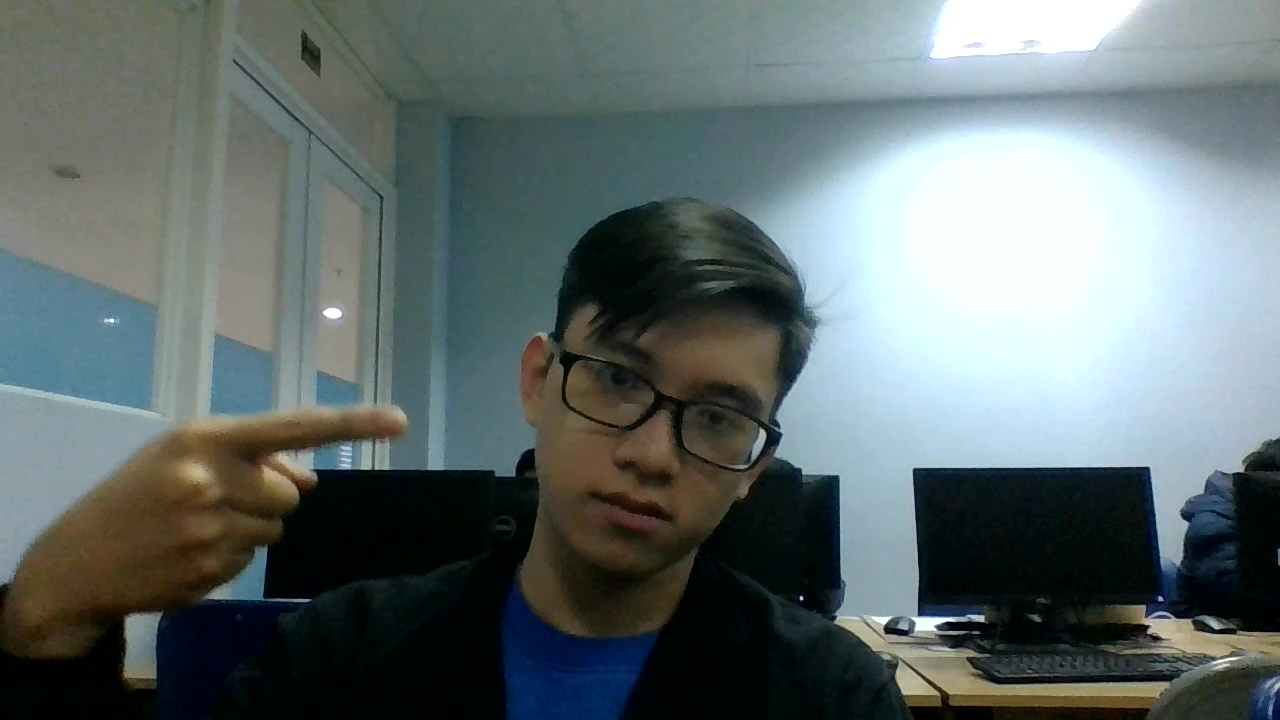left: (1, 398, 407, 615)
